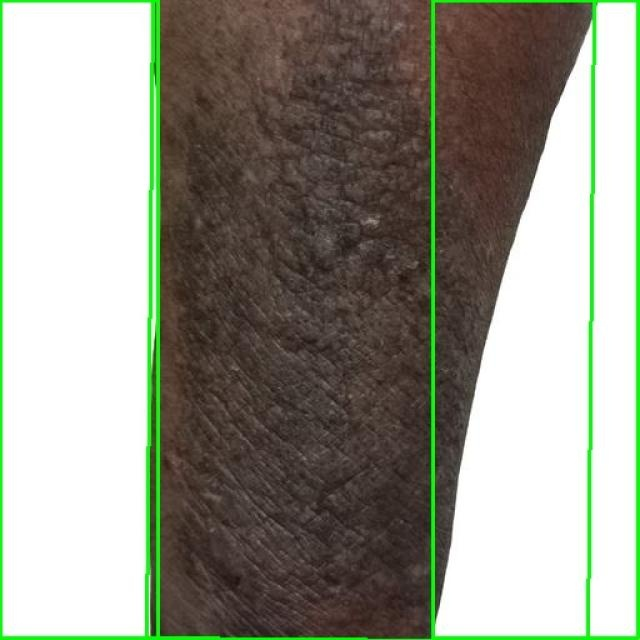Eczema: (147, 0, 594, 640), (434, 0, 639, 639), (0, 0, 158, 639)
